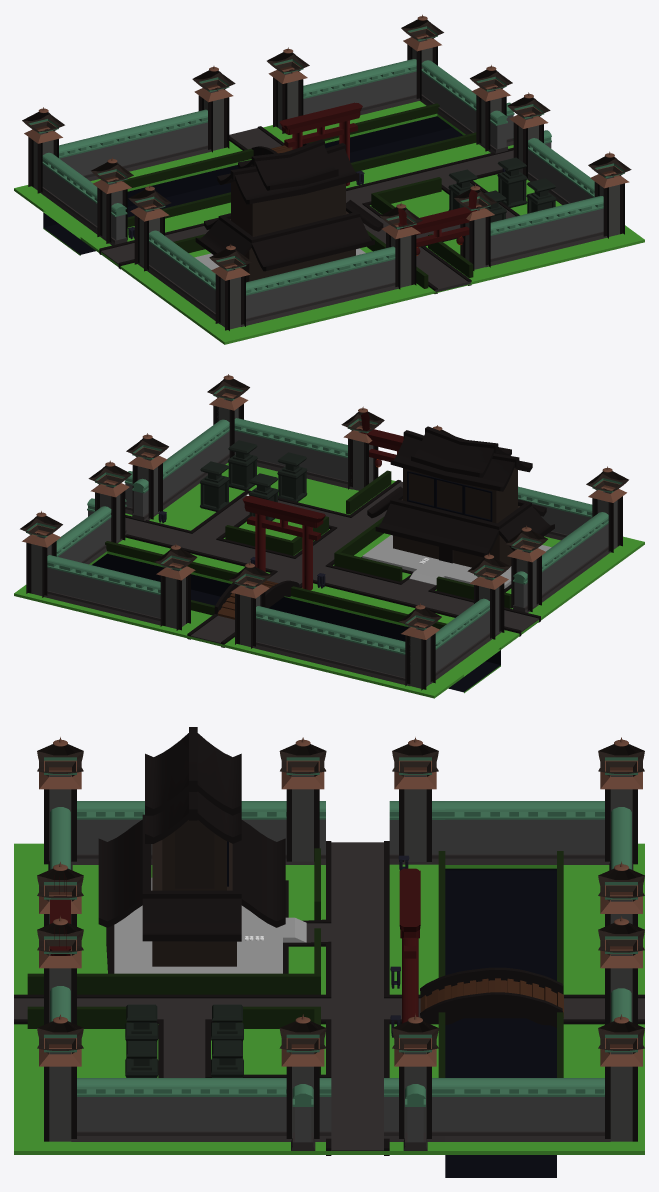
File: Cross.fbx
3 renders of one model, top to bottom at view 1: azimuth 30°, elevation 25°; view 2: azimuth 150°, elevation 25°; view 3: azimuth 270°, elevation 25°, orthographic. The views are drawn at different scales.
Visible parts, largest first — view 1: Object119, Box117, Object136, Object151, Object250, Object148, Object140, Object253, Box208, pCube114, Box205, Box207 (+32 smaller); view 2: Box117, Object119, Object250, Object151, Object253, Object148, Object136, Object140, pCube114, Box205, Box211, Box203 (+31 smaller); view 3: Object119, Box117, Object250, Object140, Object148, Object253, Object121, Box200, Box203, Box209, Box210, Box201 (+30 smaller).
Part boxes in pixels (left/top/right/bottom): Object119: left=14, top=101, right=644, bottom=344; Box117: left=194, top=139, right=383, bottom=282; Object136: left=241, top=208, right=607, bottom=326; Object151: left=60, top=71, right=419, bottom=181; Object250: left=101, top=128, right=515, bottom=292; Object148: left=40, top=164, right=220, bottom=324; Object140: left=419, top=72, right=592, bottom=204; Object253: left=173, top=177, right=473, bottom=288; Box208: left=209, top=244, right=252, bottom=330; pCube114: left=279, top=102, right=362, bottom=185; Box205: left=267, top=47, right=309, bottom=133; Box207: left=192, top=66, right=235, bottom=152; Box117: left=361, top=426, right=554, bottom=592; Object119: left=14, top=462, right=644, bottom=698; Object250: left=125, top=481, right=538, bottom=643; Object151: left=44, top=567, right=410, bottom=686; Object253: left=225, top=470, right=511, bottom=608; Object148: left=430, top=524, right=610, bottom=683; Object136: left=234, top=431, right=591, bottom=540; Object140: left=58, top=431, right=229, bottom=564; pCube114: left=242, top=496, right=325, bottom=590; Box205: left=154, top=543, right=197, bottom=630; Box211: left=399, top=603, right=441, bottom=690; Box203: left=20, top=511, right=62, bottom=597; Object119: left=14, top=843, right=644, bottom=1177; Box117: left=98, top=727, right=331, bottom=973; Object250: left=14, top=842, right=644, bottom=1150; Object140: left=71, top=1097, right=610, bottom=1141; Object148: left=71, top=819, right=609, bottom=864; Object253: left=27, top=848, right=320, bottom=1074; Object121: left=420, top=967, right=563, bottom=1027; Box200: left=37, top=1014, right=83, bottom=1141; Box203: left=598, top=1014, right=644, bottom=1141; Box209: left=279, top=737, right=326, bottom=861; Box210: left=392, top=737, right=438, bottom=861; Box201: left=279, top=1014, right=326, bottom=1138.
Bounding box in the file's own units: 595 × 187 × 516.
